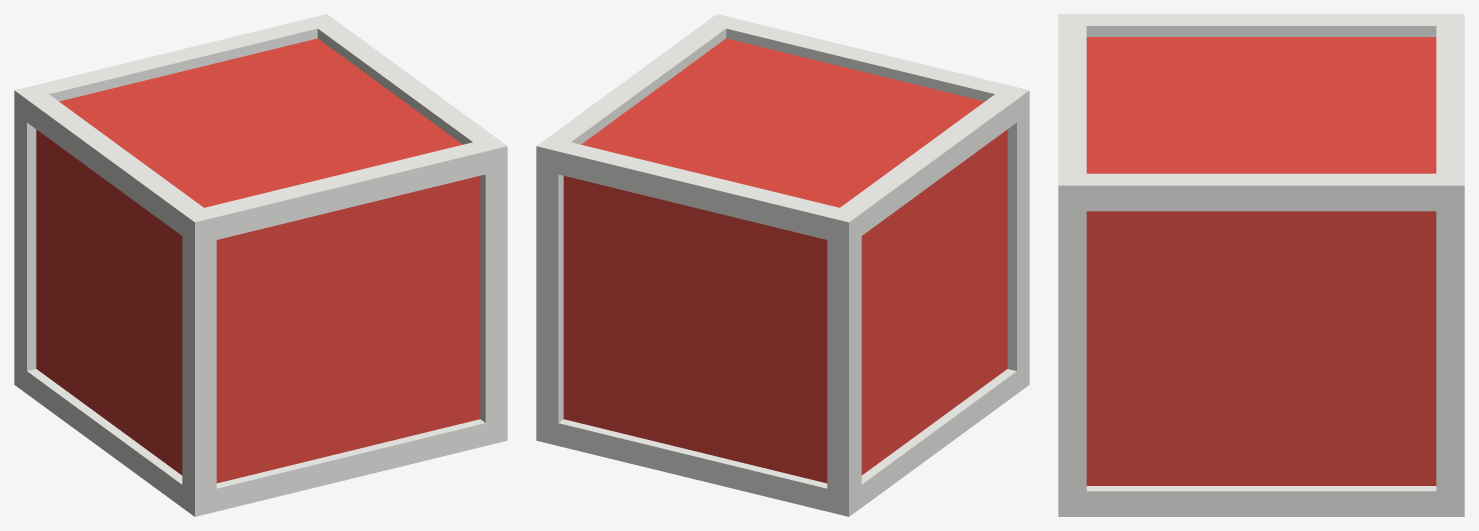
The model's file is ToyCube_Red.fbx.
3 renders of one model, left to right at view 1: azimuth 30°, elevation 25°; view 2: azimuth 150°, elevation 25°; view 3: azimuth 270°, elevation 25°, orthographic. The views are drawn at different scales.
Visible parts, largest first — view 1: ToyCube_Red; view 2: ToyCube_Red; view 3: ToyCube_Red.
Boxes of the visible parts, x1,y1,x2,y2 form: ToyCube_Red: (14, 14, 507, 516); ToyCube_Red: (536, 14, 1029, 516); ToyCube_Red: (1058, 14, 1464, 516).
Bounding box in the file's own units: 1 × 0.9 × 1.
